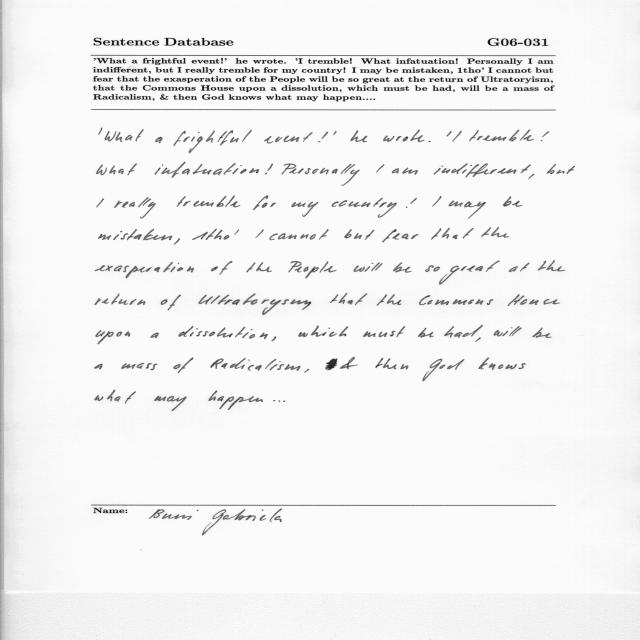word: (199, 294, 312, 315), (174, 130, 252, 154), (282, 163, 360, 186), (155, 162, 260, 178), (95, 262, 194, 278), (439, 260, 500, 285), (434, 163, 531, 178), (332, 198, 397, 218), (178, 326, 268, 339), (211, 358, 301, 371), (423, 359, 465, 382), (114, 197, 156, 219), (288, 261, 337, 278), (99, 229, 172, 240), (469, 130, 534, 142), (177, 196, 241, 208), (419, 295, 494, 305), (228, 396, 280, 410), (448, 201, 486, 219), (269, 229, 329, 240), (508, 294, 560, 306), (478, 357, 526, 370), (264, 132, 313, 144), (95, 390, 136, 404), (95, 294, 145, 305), (299, 326, 349, 337), (192, 229, 239, 240), (105, 129, 144, 142), (444, 325, 483, 338), (383, 130, 425, 142), (154, 396, 187, 411), (209, 391, 235, 410), (382, 229, 419, 242), (97, 164, 137, 176), (96, 331, 130, 345), (431, 228, 474, 239), (363, 326, 405, 337), (325, 357, 358, 370), (292, 202, 319, 217), (376, 358, 409, 370), (339, 294, 367, 306), (344, 229, 374, 240), (254, 196, 277, 210), (161, 295, 181, 311), (482, 227, 510, 238), (211, 261, 233, 275), (377, 294, 402, 306), (174, 358, 194, 373), (538, 261, 565, 272), (354, 262, 383, 272), (246, 262, 272, 273), (547, 164, 575, 174), (494, 326, 522, 336), (121, 363, 158, 370), (503, 196, 523, 207), (532, 327, 552, 338), (509, 262, 530, 272), (393, 262, 412, 273), (351, 131, 368, 143), (392, 168, 418, 175), (418, 328, 433, 338), (318, 132, 328, 143), (406, 198, 417, 208), (425, 265, 440, 272), (452, 131, 462, 141), (433, 196, 442, 206), (265, 164, 273, 175), (376, 164, 385, 173), (255, 229, 264, 238), (330, 294, 339, 303), (541, 131, 549, 141), (97, 199, 104, 208), (173, 238, 180, 245), (155, 137, 163, 143), (94, 364, 103, 369), (151, 333, 159, 338), (529, 174, 535, 179), (475, 337, 481, 342), (99, 128, 103, 135), (447, 132, 452, 137), (272, 337, 277, 342), (304, 369, 309, 373), (333, 131, 337, 135), (284, 400, 286, 402), (429, 141, 431, 142)
